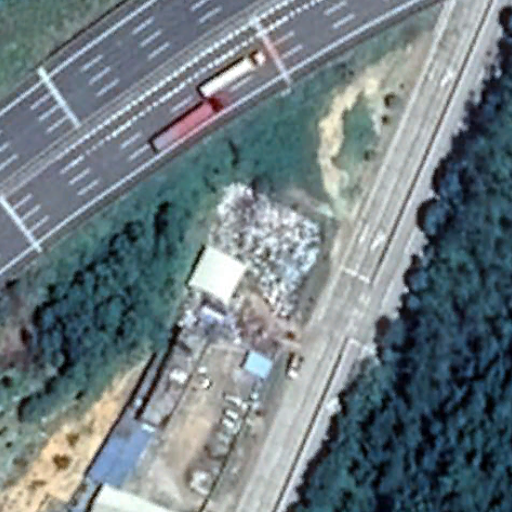msw: (209, 181, 325, 317)
